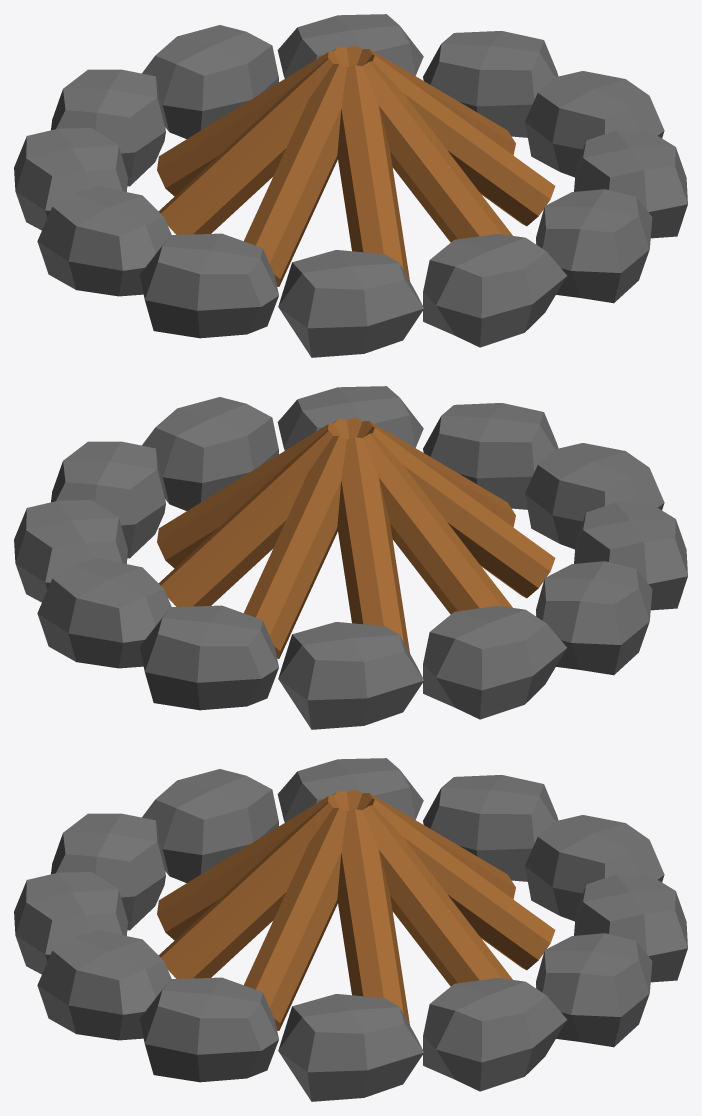
The model's file is campfire 1.fbx.
The picture shows the model from 3 angles, top to bottom: view 1: azimuth 30°, elevation 25°; view 2: azimuth 150°, elevation 25°; view 3: azimuth 270°, elevation 25°; orthographic projection.
Parts seen in each view (by area): view 1: Campfire; view 2: Campfire; view 3: Campfire.
Part boxes in pixels (x1,y1,x2,y2): Campfire: (14, 14, 687, 357); Campfire: (14, 386, 687, 729); Campfire: (14, 758, 687, 1101).
Size of the model in its own units: 354 by 97.94 by 354.
